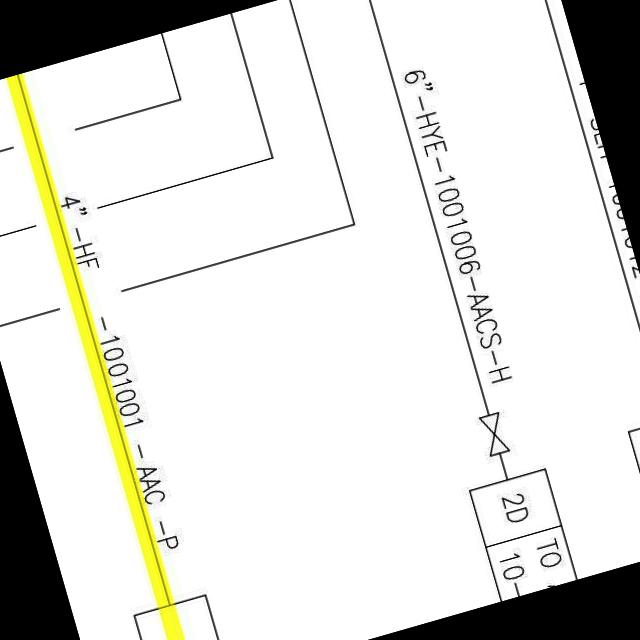GV: (474, 407, 514, 462)
